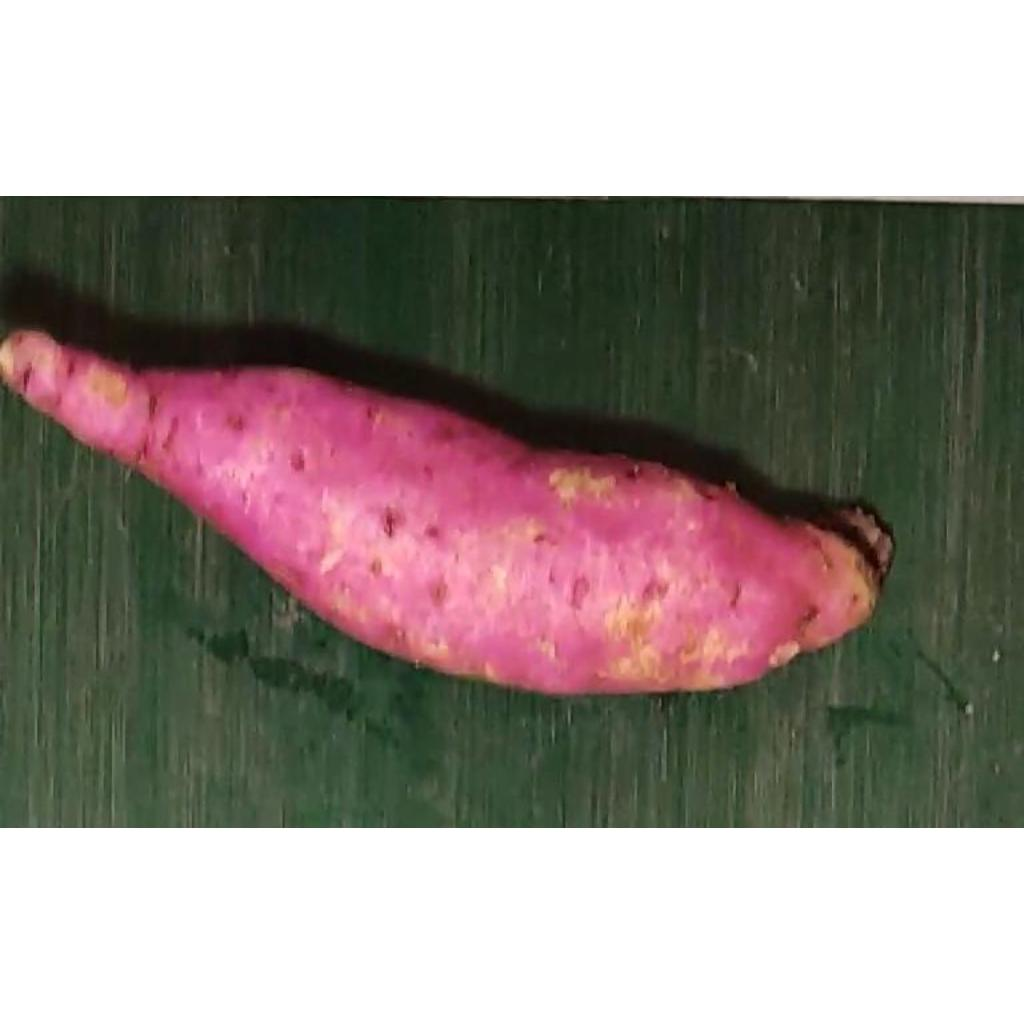Sweet Potato: (0, 331, 893, 699)
